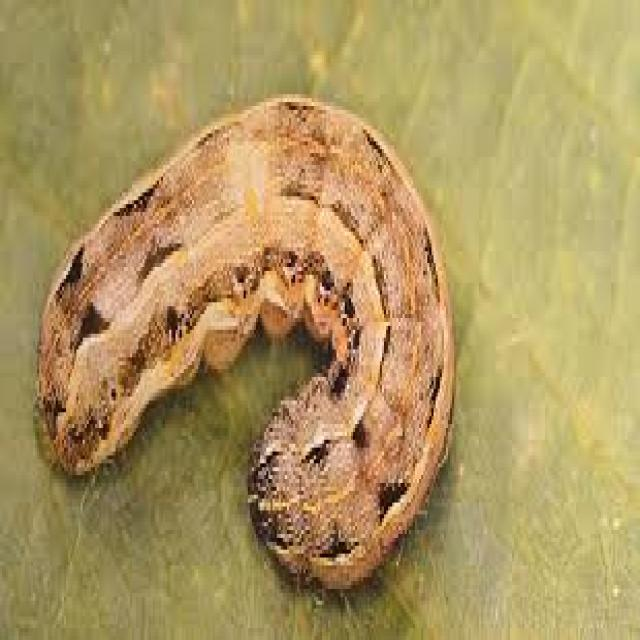Army Worm: (33, 92, 459, 605)
